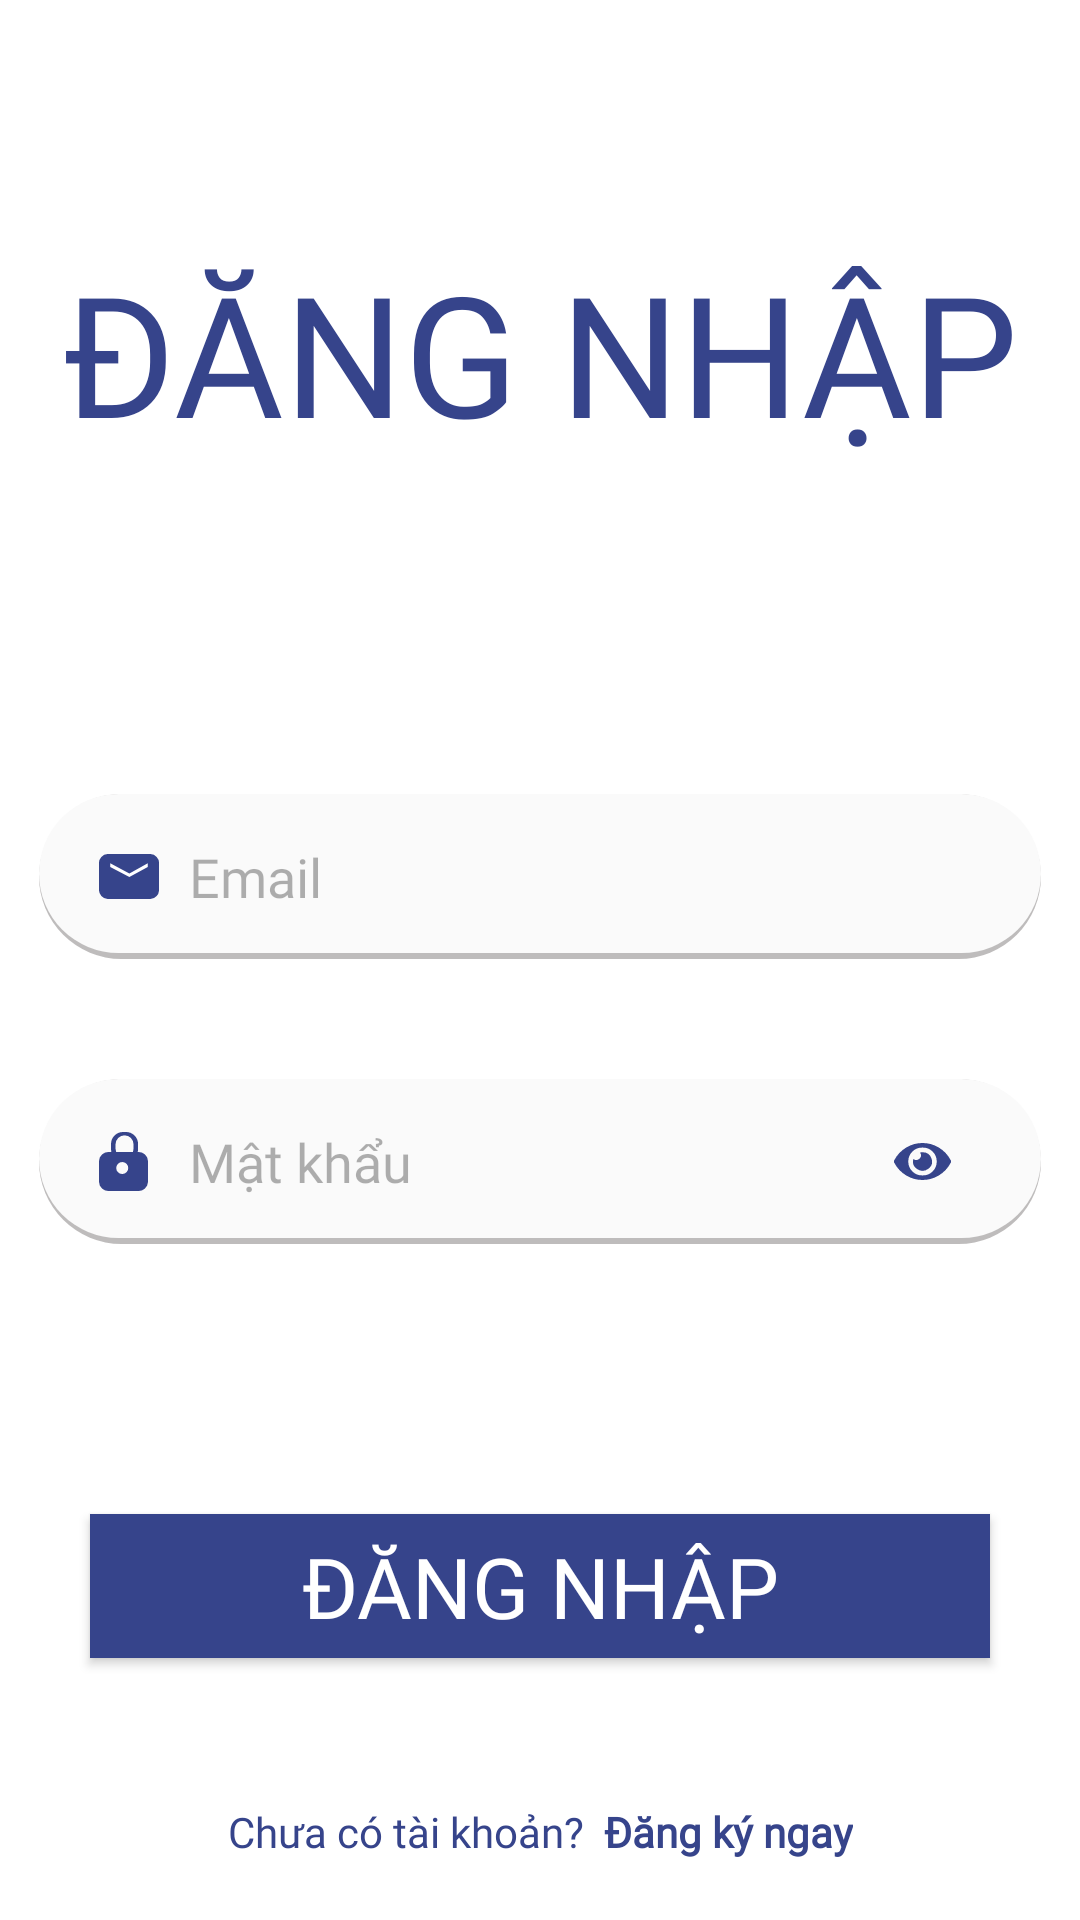

Icons on this 1080*1920 Android screen, each with its box as (x1=x1, y1=y1, x2=x2, y2=y2):
pass: (x1=99, y1=1132, x2=148, y2=1191)
see: (x1=894, y1=1143, x2=951, y2=1180)
